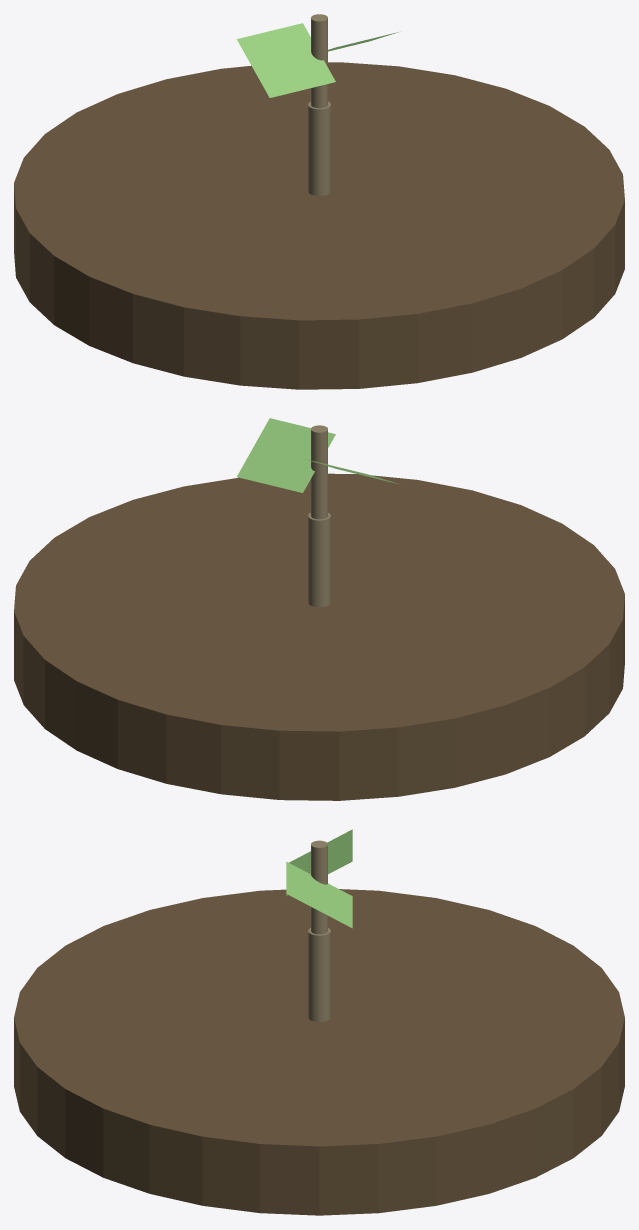
The model's file is plant_stage_1_seedling.glb.
3 renders of one model, top to bottom at view 1: azimuth 30°, elevation 25°; view 2: azimuth 150°, elevation 25°; view 3: azimuth 270°, elevation 25°, orthographic.
Parts seen in each view (by area): view 1: Cylinder.002, Plane.001, Cylinder, Cylinder.001; view 2: Cylinder.002, Plane, Cylinder, Cylinder.001; view 3: Cylinder.002, Plane, Cylinder, Plane.001, Cylinder.001.
Boxes of the visible parts, <box> form: Cylinder.002: <box>14,62,624,389</box>; Plane.001: <box>237,23,335,97</box>; Cylinder: <box>308,101,330,195</box>; Cylinder.001: <box>311,14,327,108</box>; Cylinder.002: <box>14,473,624,800</box>; Plane: <box>237,418,335,492</box>; Cylinder: <box>308,512,330,607</box>; Cylinder.001: <box>311,425,327,519</box>; Cylinder.002: <box>14,889,624,1215</box>; Plane: <box>286,861,352,928</box>; Cylinder: <box>308,928,330,1022</box>; Plane.001: <box>286,829,352,895</box>; Cylinder.001: <box>311,840,327,934</box>.
Size of the model in its own units: 0.16 by 0.07 by 0.16.
